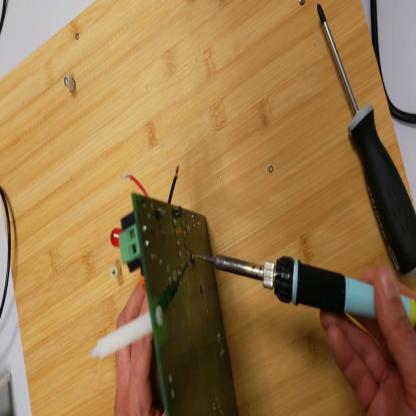hand: (320, 269, 416, 415), (115, 272, 159, 415)
low voltage board: (91, 165, 239, 416)
screwdriver-: (319, 5, 416, 282)
welder probe tip: (193, 245, 415, 328)
working area: (2, 2, 416, 414)
